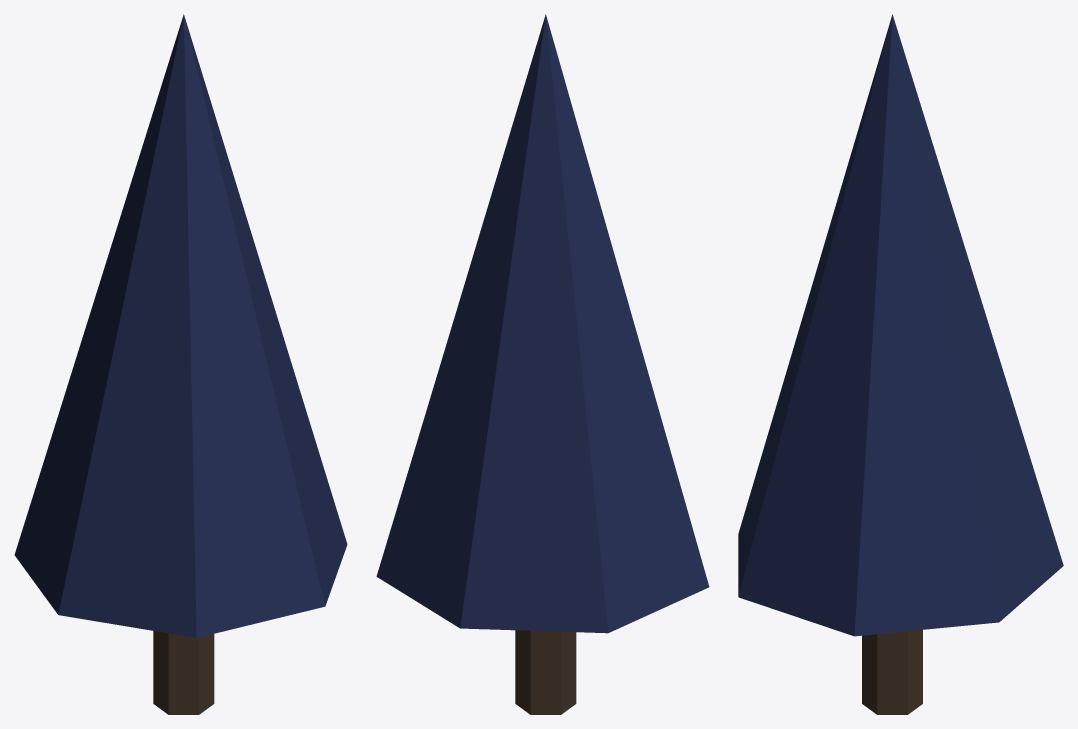
Rendered from pine_navy.glb.
The picture shows the model from 3 angles, left to right: view 1: azimuth 30°, elevation 25°; view 2: azimuth 150°, elevation 25°; view 3: azimuth 270°, elevation 25°; orthographic projection.
Parts seen in each view (by area): view 1: pine_navy; view 2: pine_navy; view 3: pine_navy.
Boxes of the visible parts, x1,y1,x2,y2 form: pine_navy: [14, 14, 347, 714]; pine_navy: [376, 14, 709, 714]; pine_navy: [738, 14, 1063, 714].
Bounding box in the file's own units: 0.1755 × 0.4 × 0.1711.
